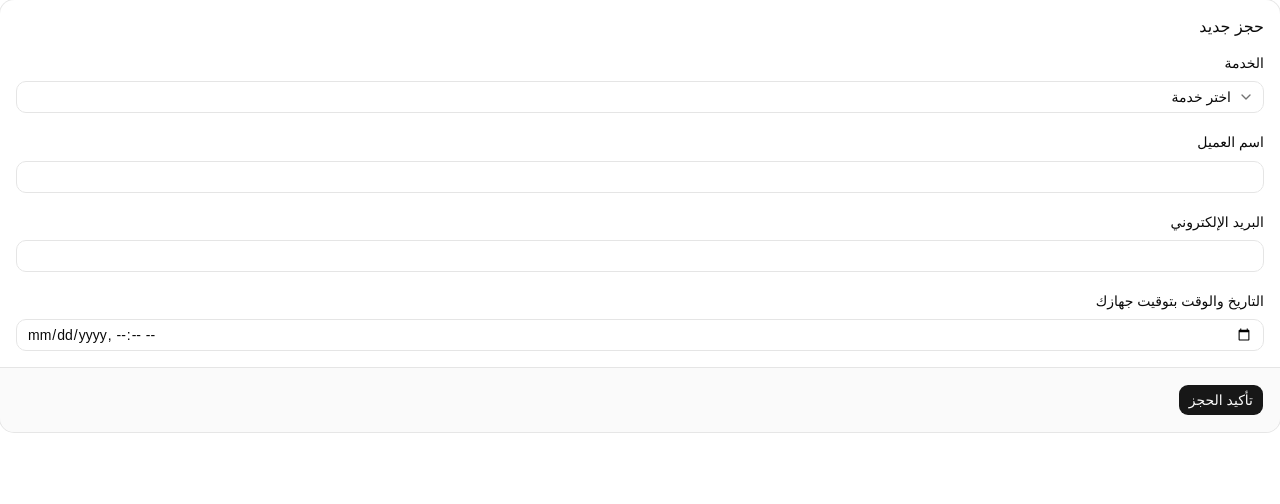
Test: BookingForm › shows a server error and keeps the entered values
The width and height of the screenshot is (1280, 504).
Select "Standard Screening (١٢٠ دقيقة)" in the dropdown labelled "الخدمة" at (640, 97), box x1=16 y1=81 x2=1264 y2=113
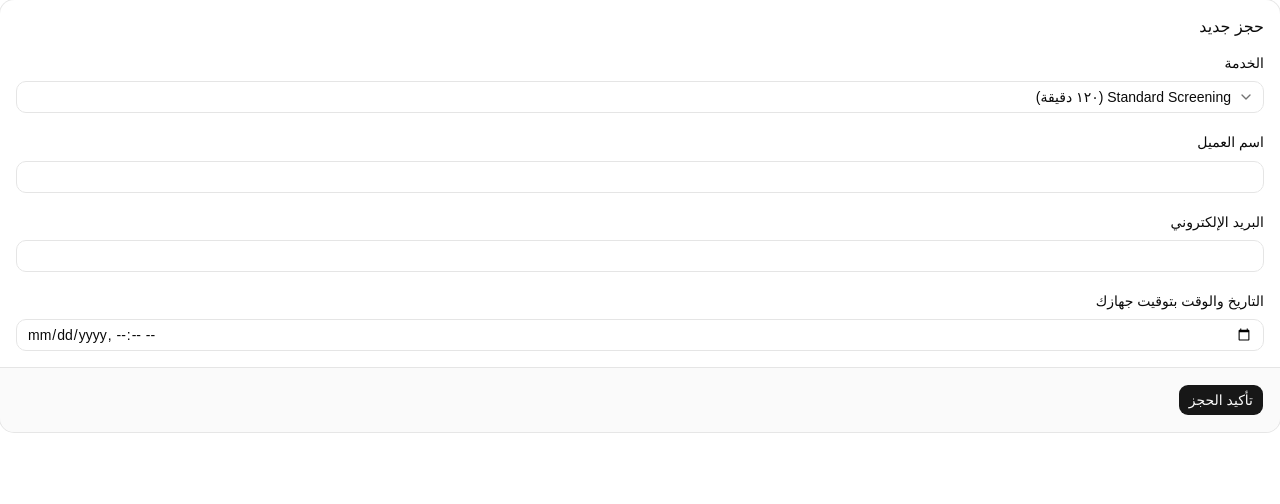
Type "Ahmed" into the field labelled "اسم العميل" at (640, 176), box x1=16 y1=160 x2=1264 y2=192
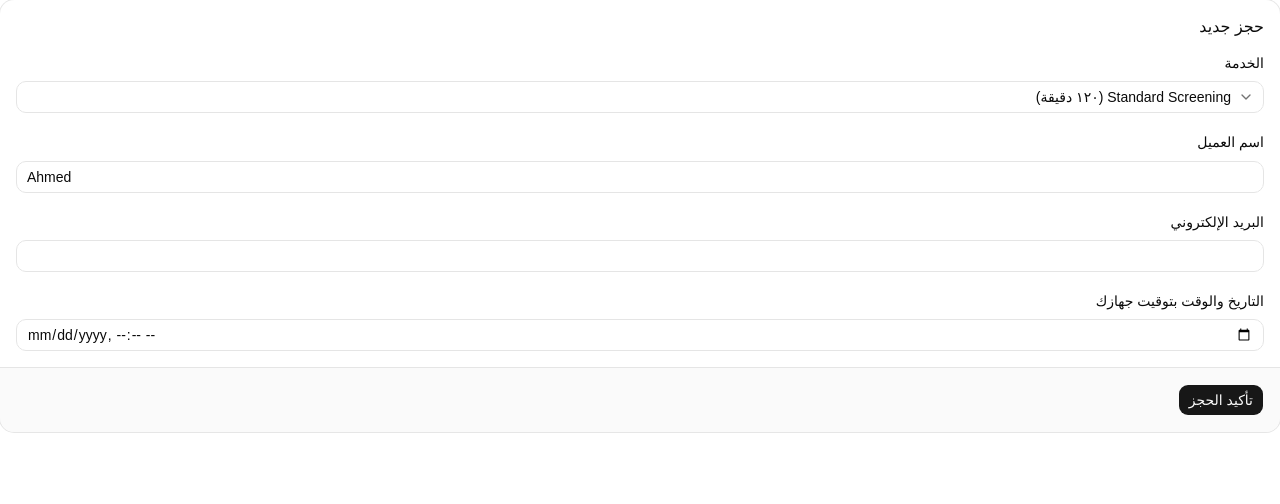
Type "ahmed@example.com" into the field labelled "البريد الإلكتروني" at (640, 256), box x1=16 y1=240 x2=1264 y2=272
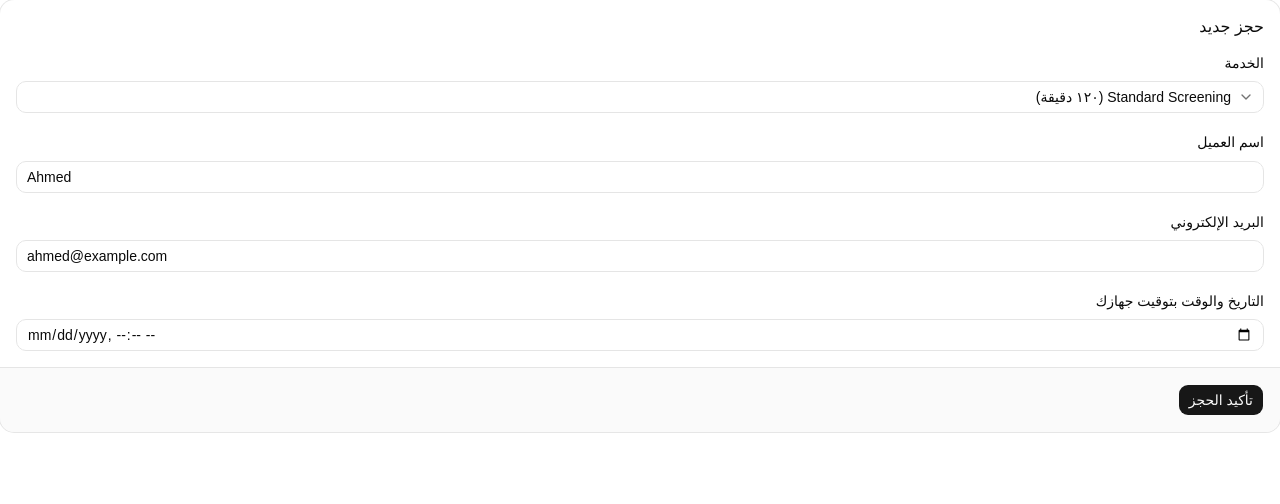
Type "2026-12-01T10:00" into the field labelled "التاريخ والوقت بتوقيت جهازك" at (640, 335), box x1=16 y1=319 x2=1264 y2=351
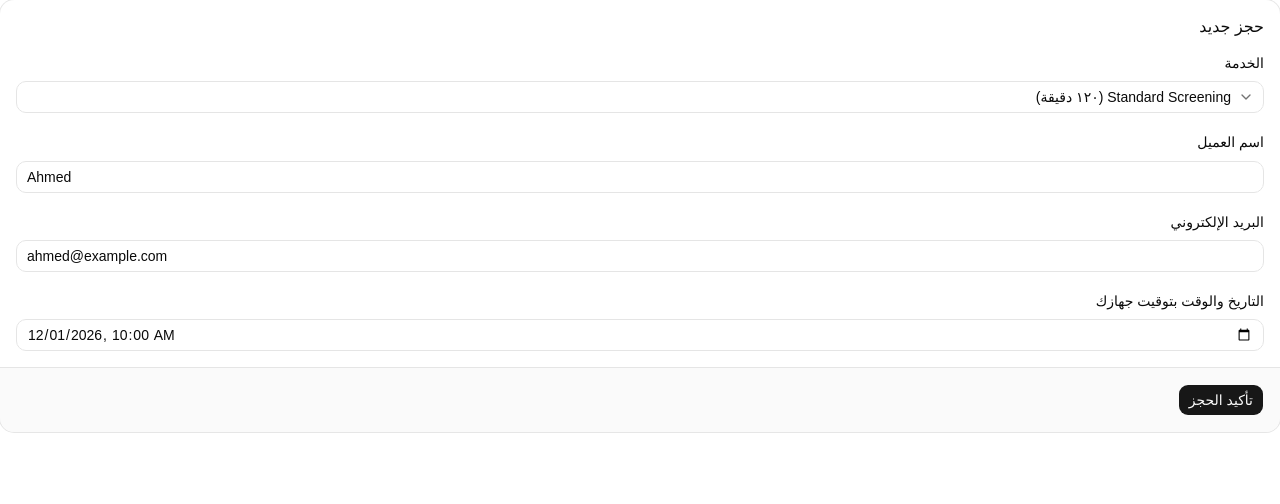
Click the button "تأكيد الحجز" at (1221, 400), box x1=1178 y1=384 x2=1264 y2=416
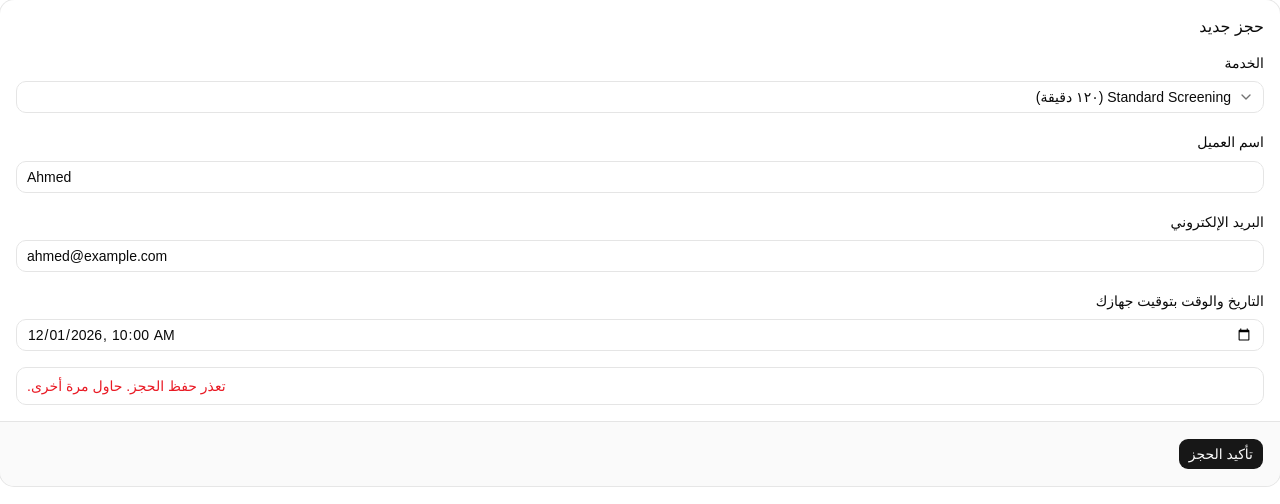
Expected: the text "تعذر حفظ الحجز. حاول مرة أخرى." is shown, x1=27 y1=378 x2=226 y2=394
